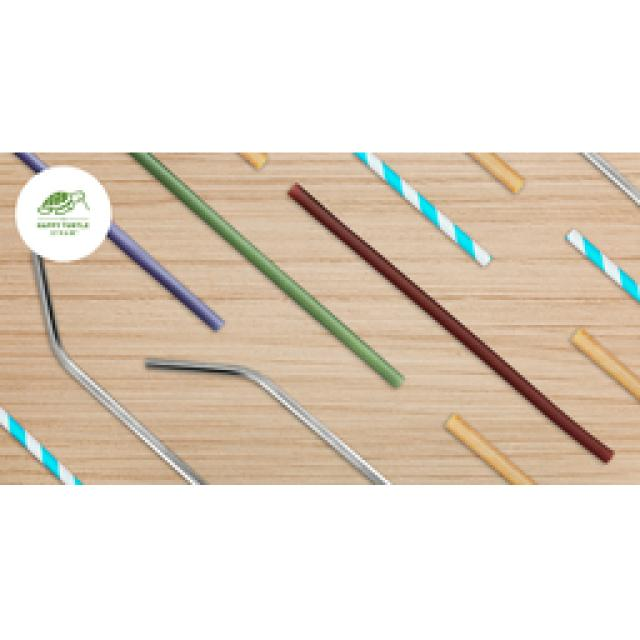plastic: (0, 145, 638, 483), (285, 178, 615, 462), (125, 150, 405, 388), (10, 150, 225, 332), (350, 148, 492, 268), (568, 322, 638, 478), (562, 223, 638, 365), (580, 148, 638, 300)
